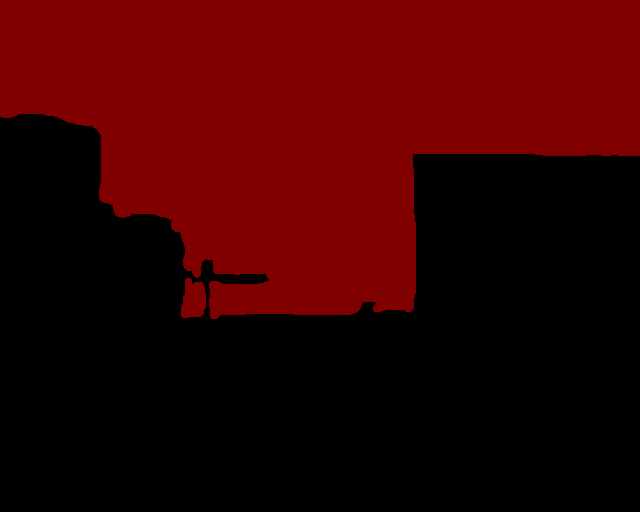Sky: (1, 1, 639, 318)
